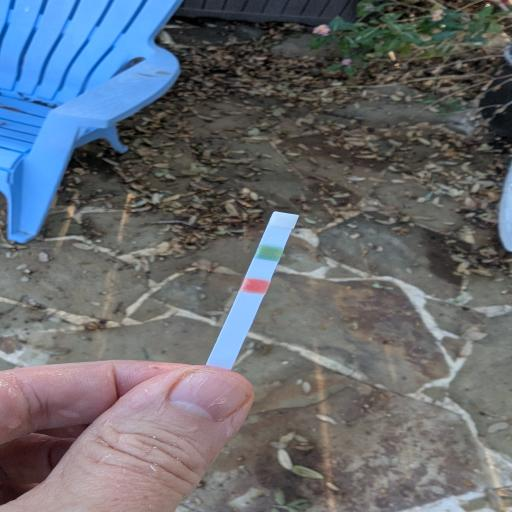strip: (206, 212, 300, 371)
